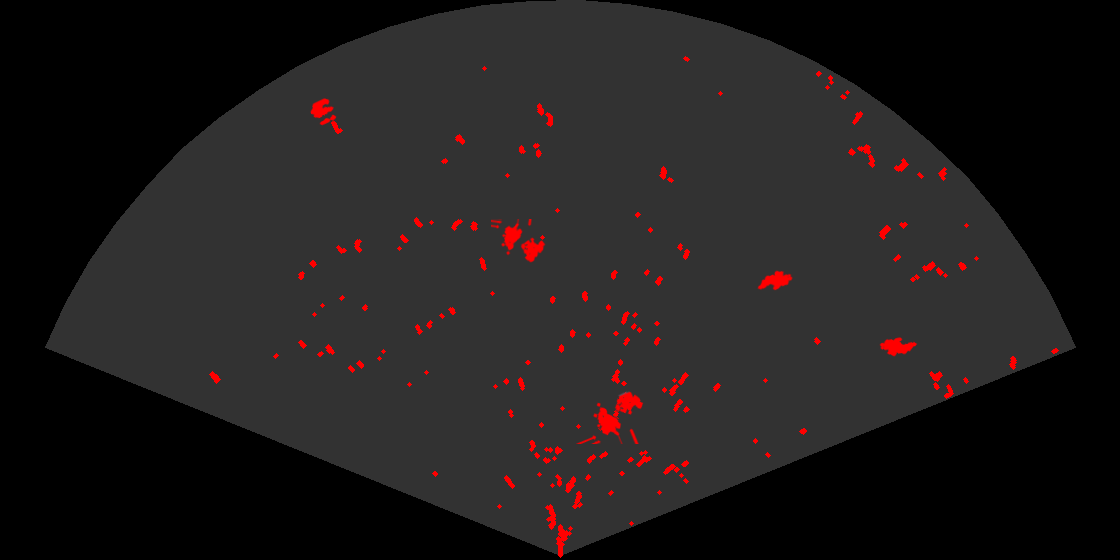AUV: (878, 336, 919, 358), (756, 269, 794, 292)
ball: (309, 97, 338, 127)
cage: (576, 390, 645, 444), (491, 219, 547, 264)
